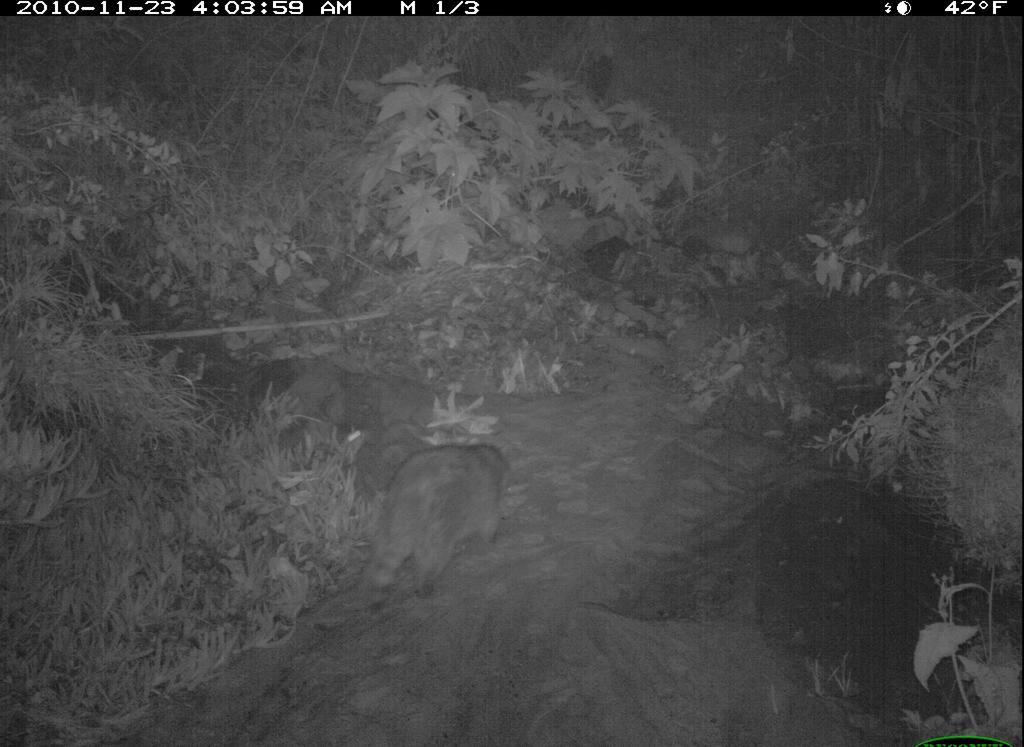raccoon: (363, 434, 520, 609)
